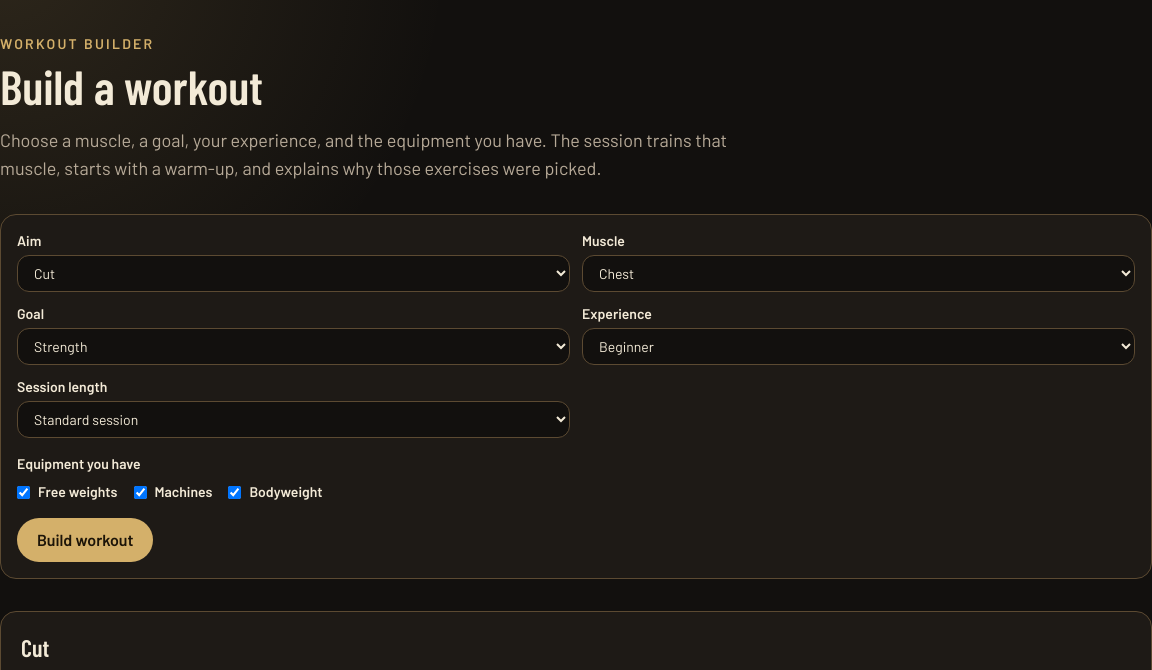
Test case: WorkoutBuilderPage › starts a cut on strength and a standard session, then lists easier exercises
The image size is (1152, 670).
Expected: the dropdown labelled "Goal" shows "Strength", [17,328,570,365]
Expected: the dropdown labelled "Session length" shows "Standard session", [17,401,570,438]
Select "Intermediate" in the dropdown labelled "Experience" at point(858, 346), box [582,328,1135,365]
(page scrolled)
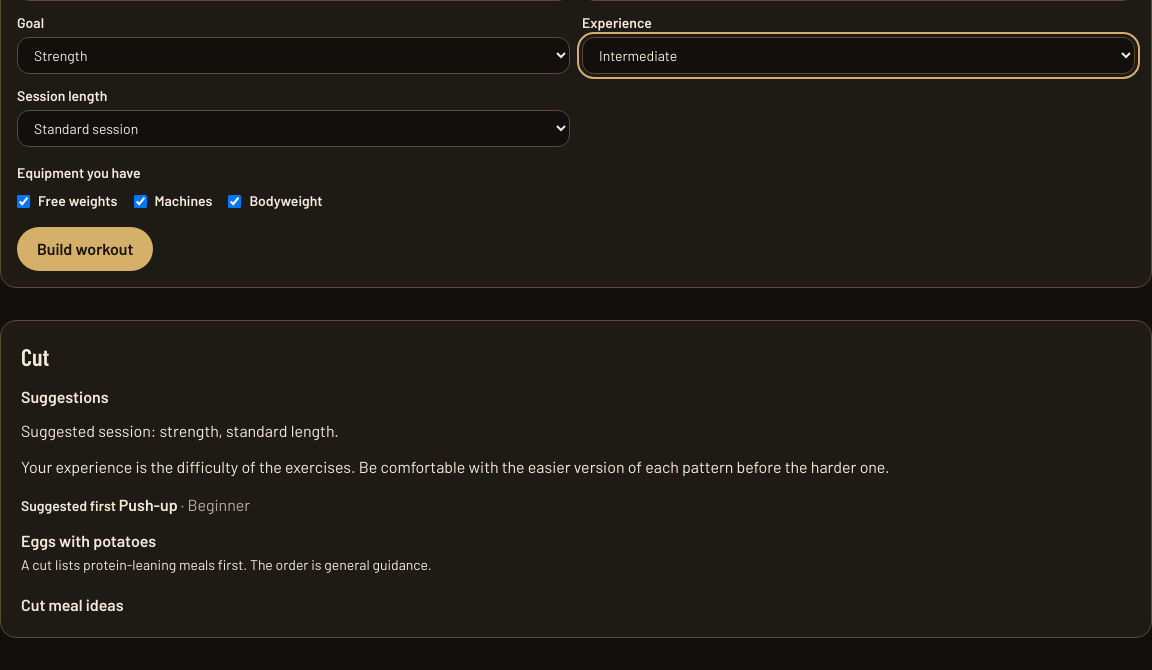
Result: the text "Suggested first" is shown at [21,497,119,514]
Result: the text "easier version of each pattern" is shown at [356,457,890,476]
